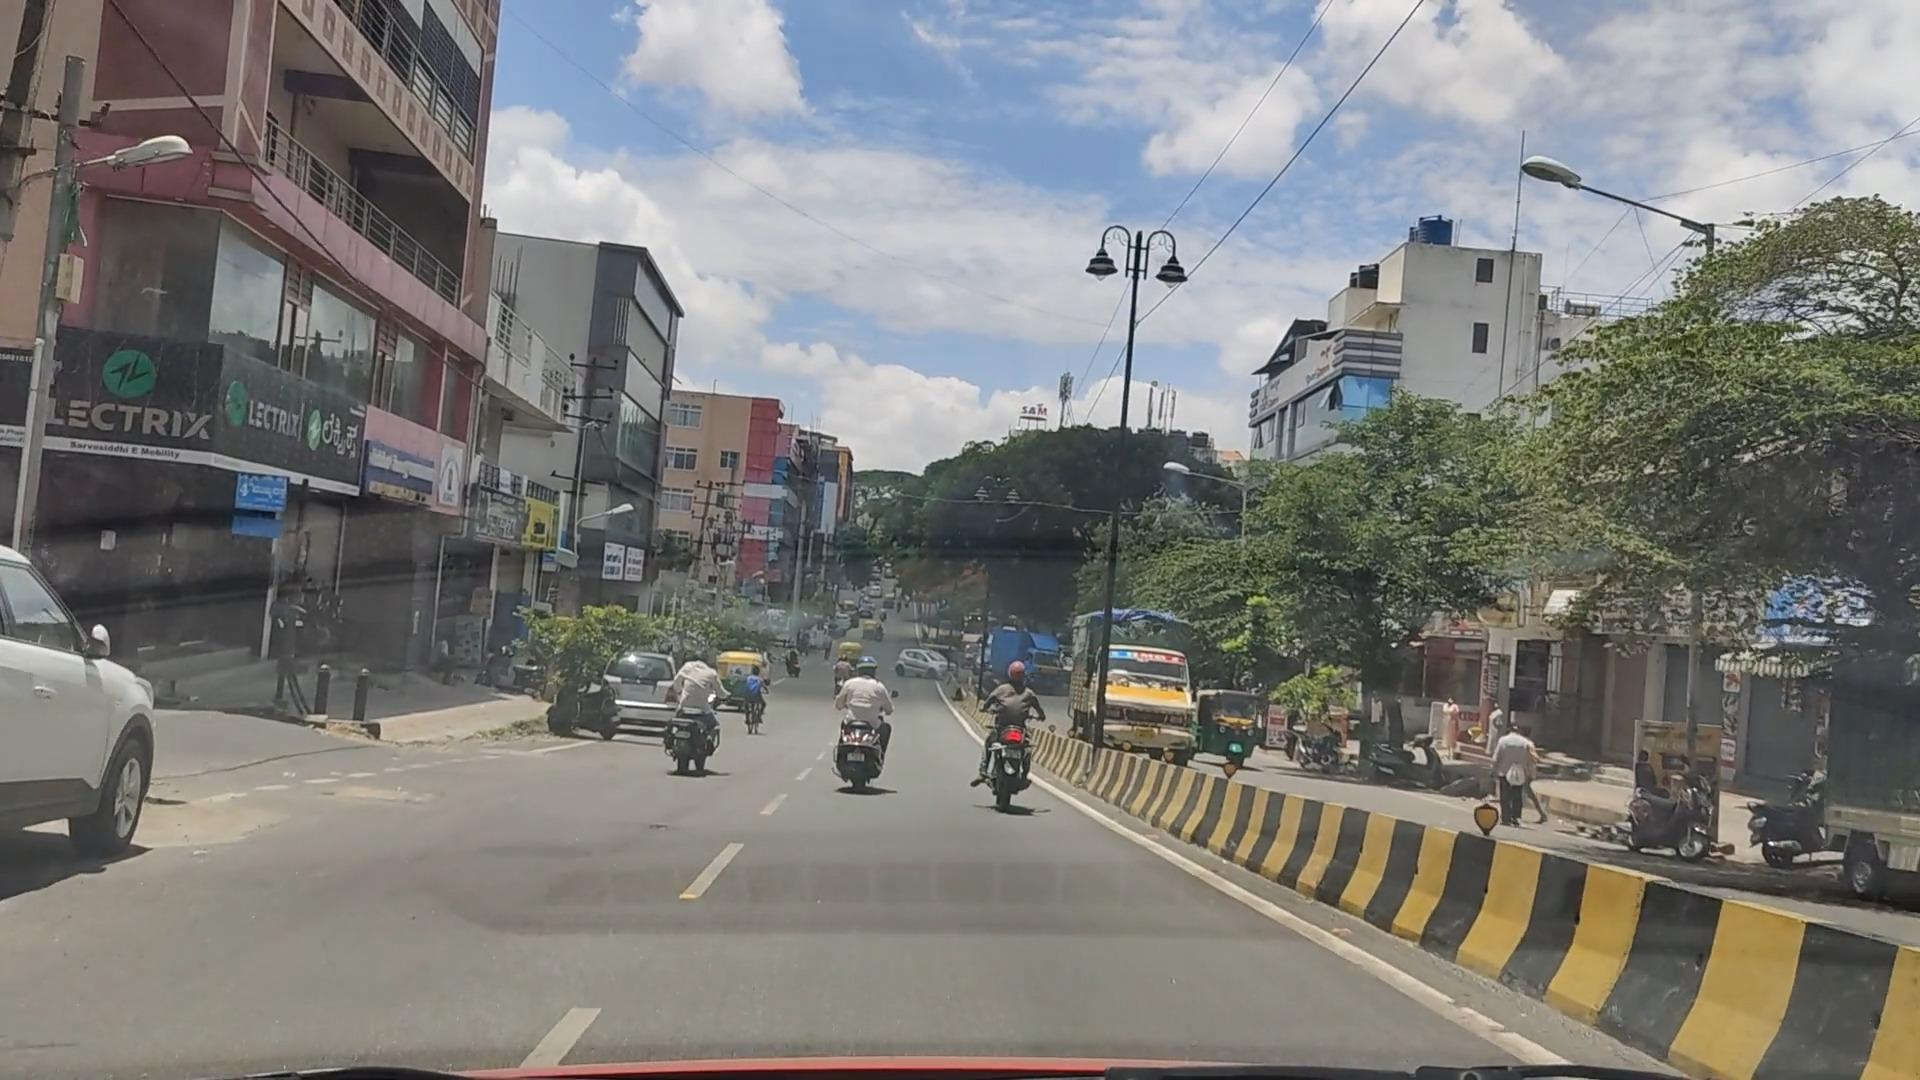LMV: (814, 638, 911, 796), (661, 638, 737, 781), (990, 638, 1046, 832)
RoadDamages: (225, 761, 462, 873)
